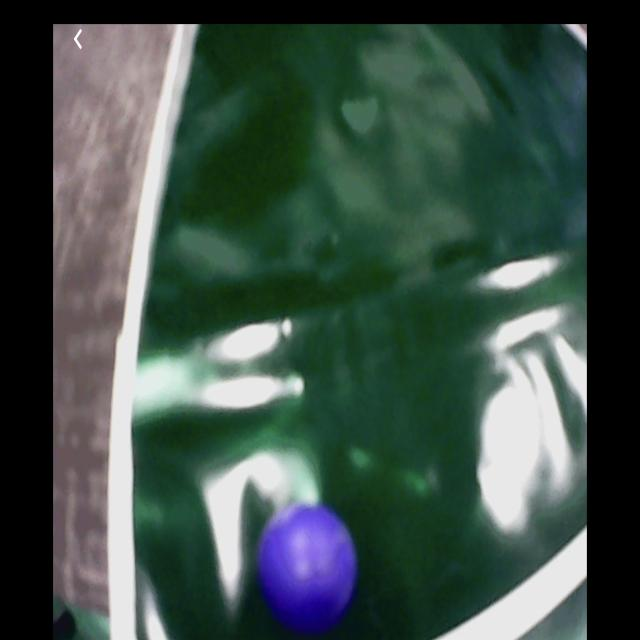ball: (257, 501, 355, 638)
